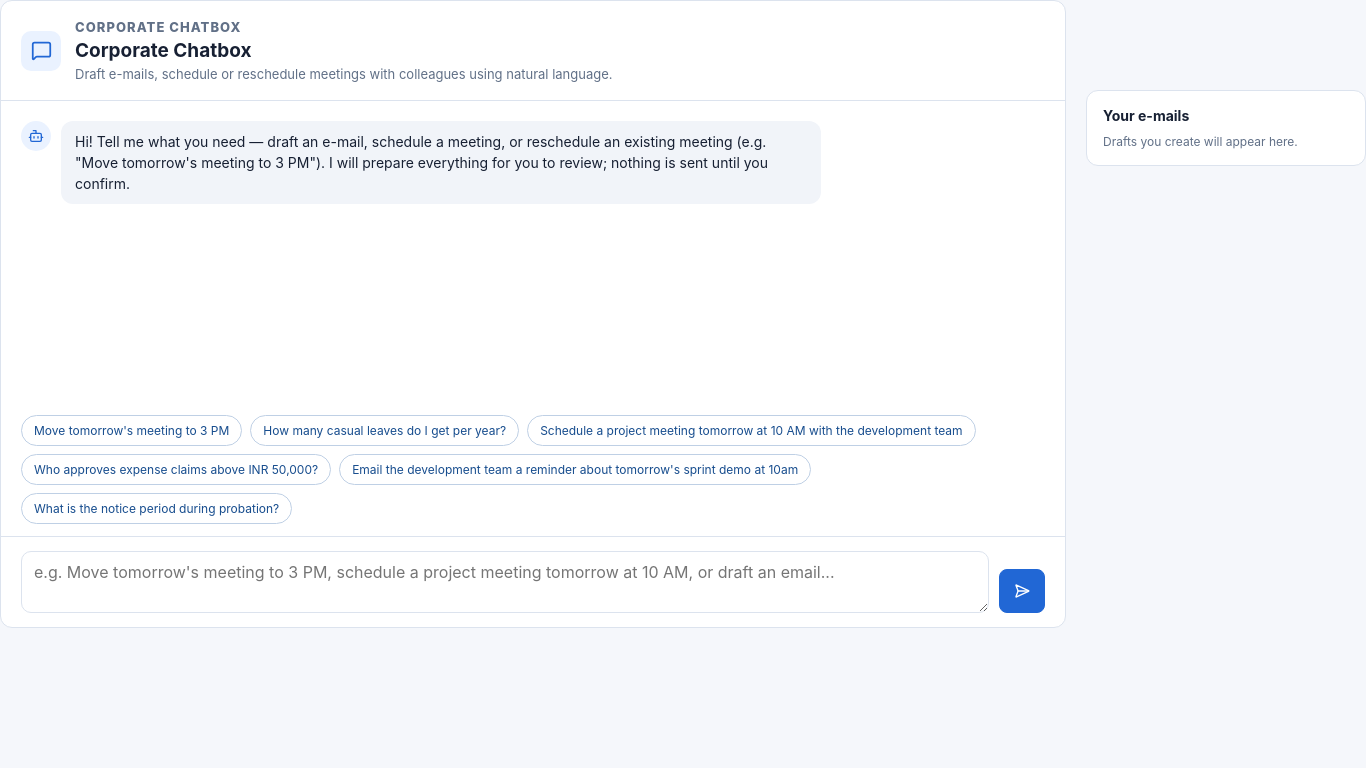
User Story 5.1 — Natural-Language Meeting Scheduling in Chat › Meeting scheduling flow › displays availability conflicts clearly when double-booking is detected
This screenshot has width=1366, height=768.
Type "Schedule a meeting tomorrow at 10 AM with Marcus Chen" into the text box named "Message Corporate Chatbox". click: point(505, 582)
box: [21,551,989,613]
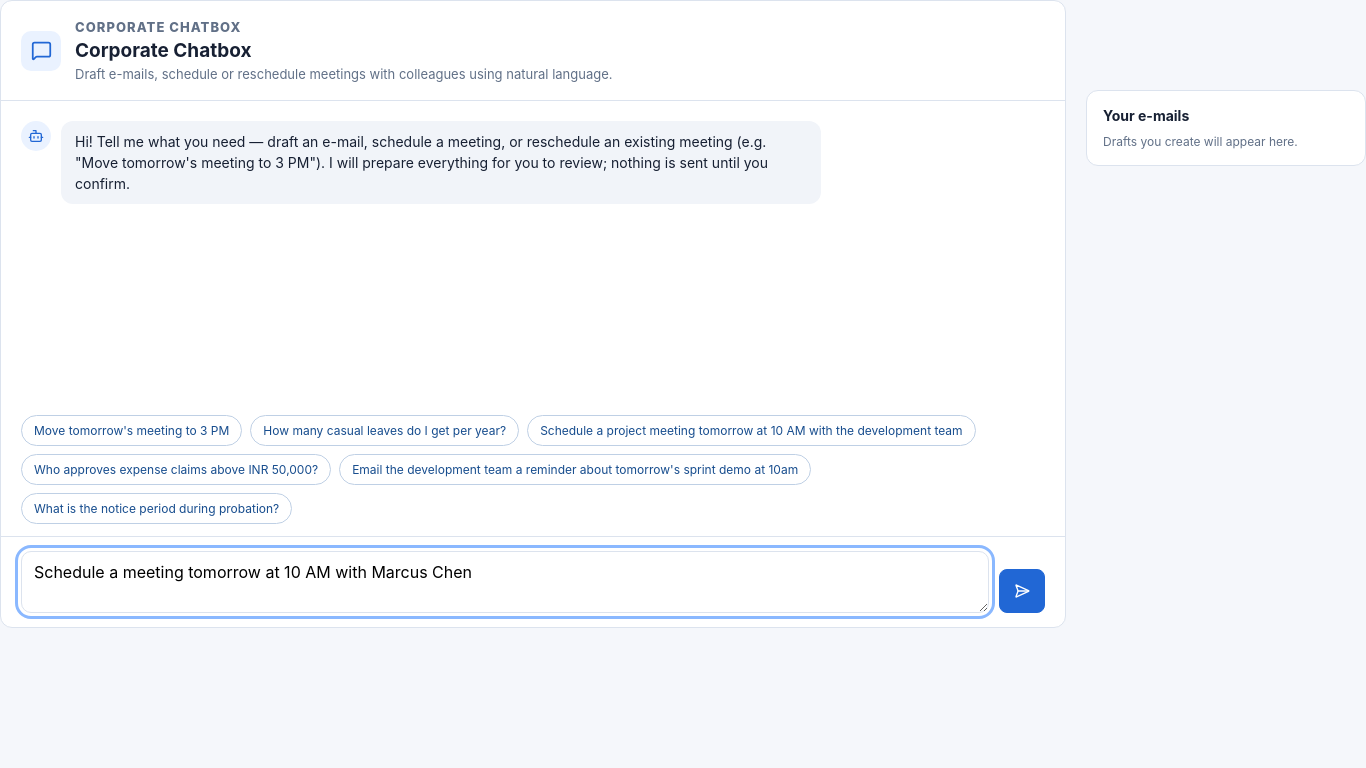
Click the button named "Send message". click: point(1022, 591)
box: [999,569,1045,613]
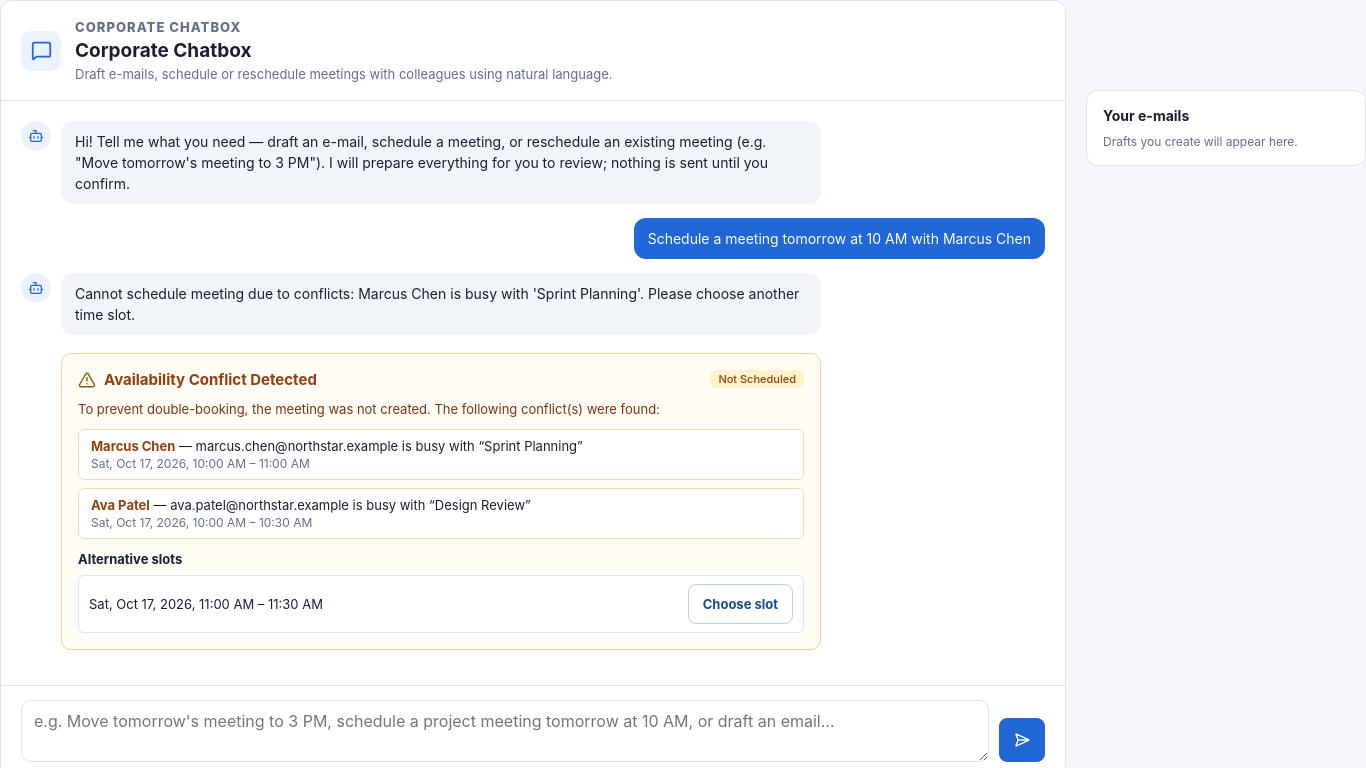
Expected: the element named "Meeting scheduling conflict" is shown, [61,353,821,650]
Expected: the heading "Availability Conflict Detected" is shown, [104,370,317,389]
Expected: the text "Marcus Chen" is shown, [91,438,175,454]
